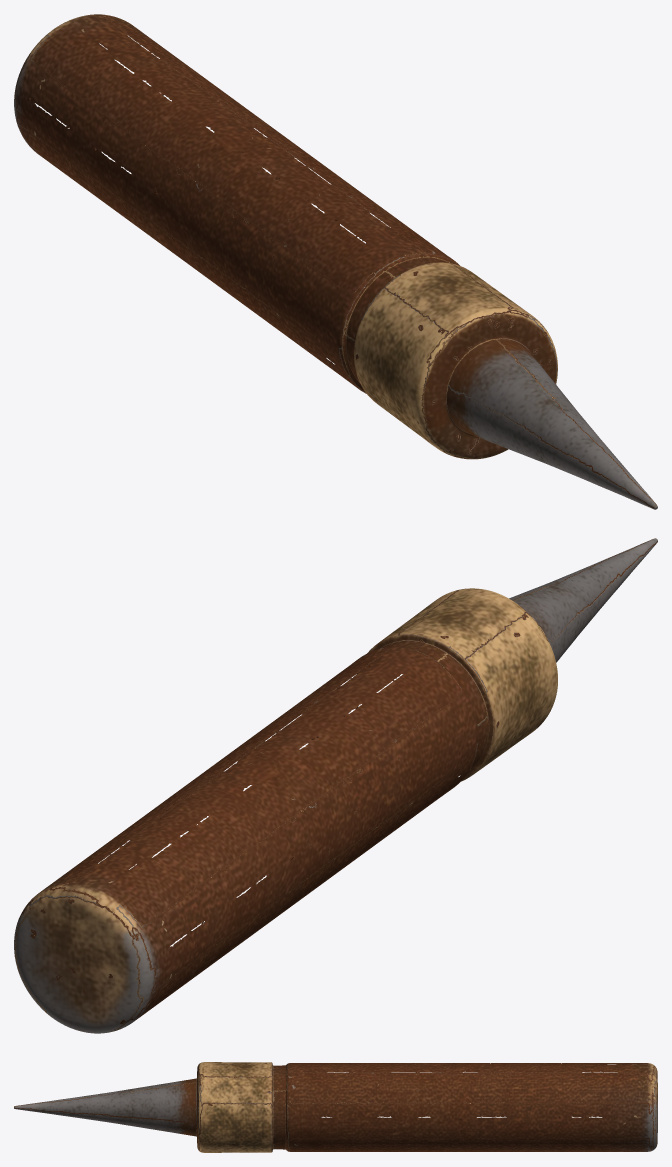
3 renders of one model, top to bottom at view 1: azimuth 30°, elevation 25°; view 2: azimuth 150°, elevation 25°; view 3: azimuth 270°, elevation 25°, orthographic. The views are drawn at different scales.
Size of the model in its own units: 0.281 by 0.2808 by 1.99.
1 material, 1 textured.
